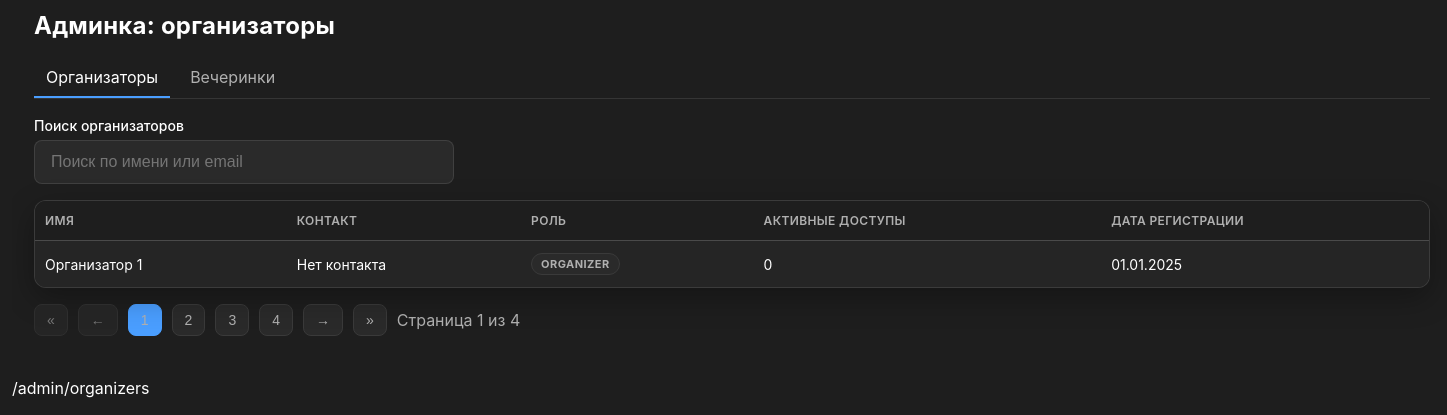
Scenario: AdminOrganizersPage pagination behavior › loads the selected page number and updates the URL
Expected: the link "Организатор 1" is shown, [45,256,142,272]
Step 1. Click the button "2" → {"x": 188, "y": 320}, box [172,304,205,336]
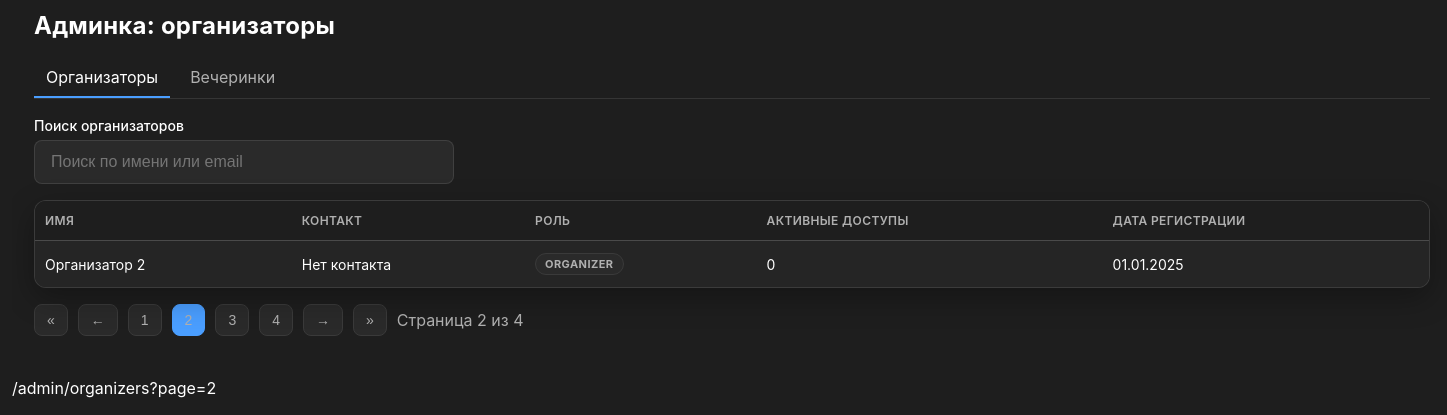
Expected: the text named "Текущий адрес" shows "?page=2", [12,378,216,398]
